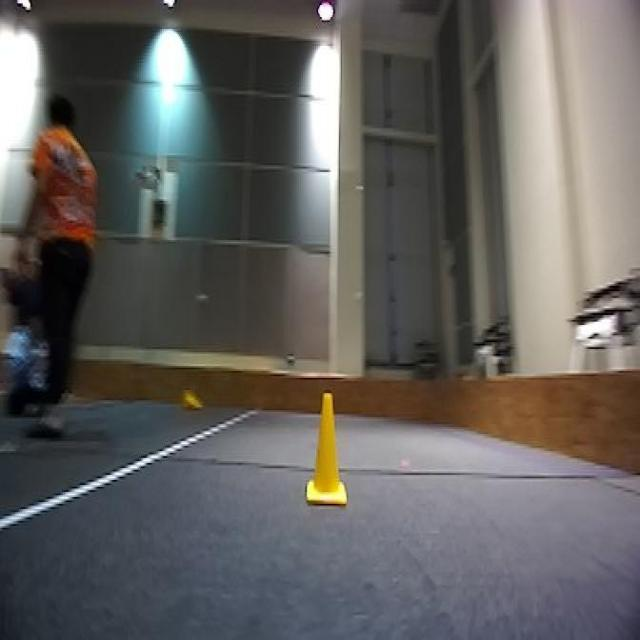frc_cone: (308, 393, 350, 516), (174, 383, 210, 415)
